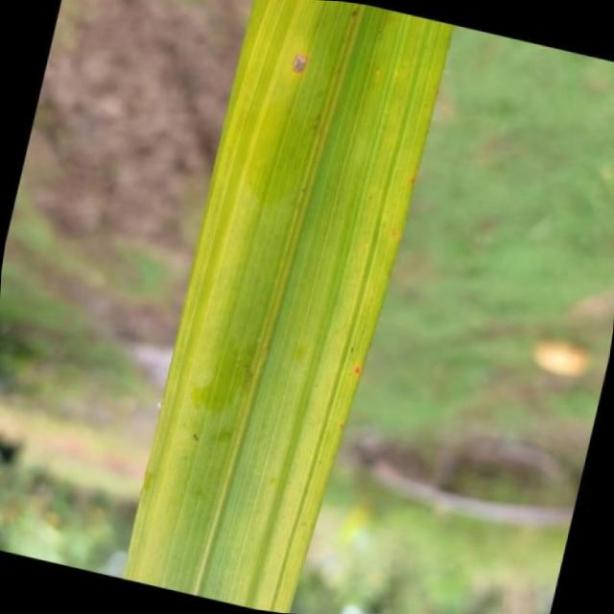nitrogen: (120, 0, 448, 614)
